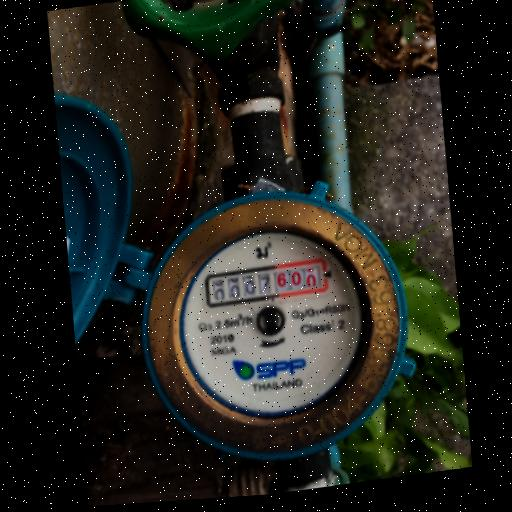0: (242, 276, 255, 298), (229, 278, 241, 300), (290, 270, 303, 290), (305, 268, 318, 288), (213, 280, 225, 301)
6: (275, 271, 288, 293)
7: (259, 274, 270, 296)
border_water_meter_number: (204, 258, 329, 308)
